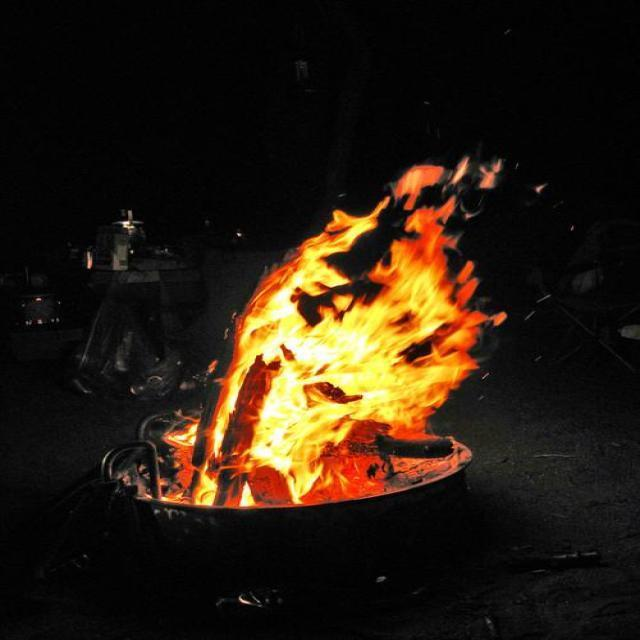fire: (159, 150, 501, 510)
